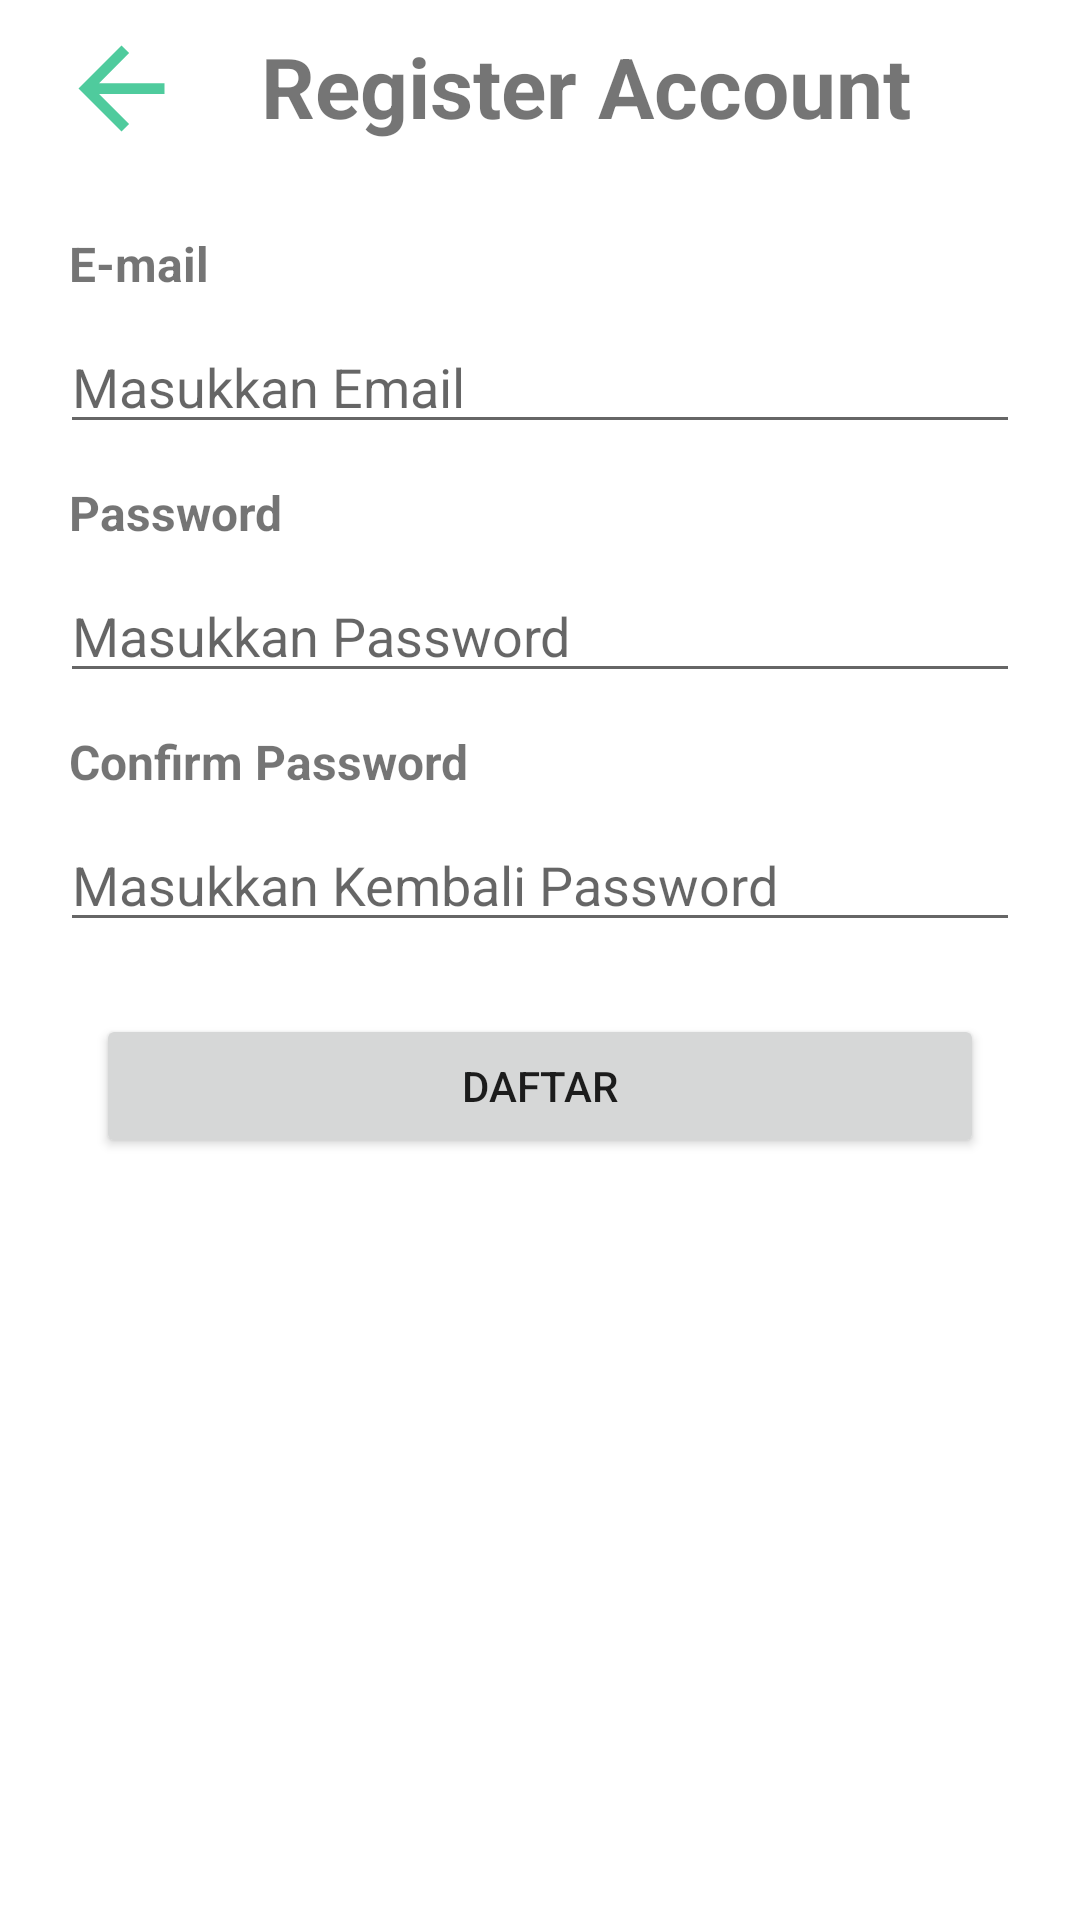

Icons on this 1080 × 1920 Android screen, each with the point to tap as (x,y):
back: (121,88)
